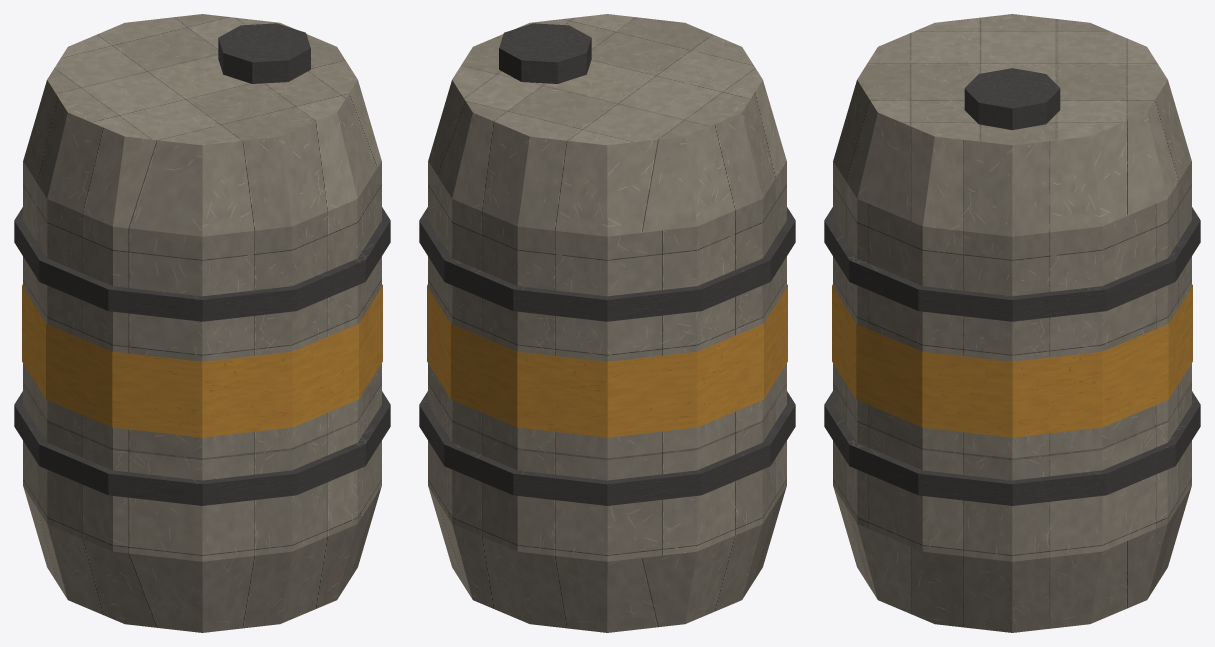
Rendered from prop_barrel_fuel.obj.
3 views of the same model, side by side, from view 1: azimuth 30°, elevation 25°; view 2: azimuth 150°, elevation 25°; view 3: azimuth 270°, elevation 25° (orthographic).
Parts seen in each view (by area): view 1: prop_barrel_fuel; view 2: prop_barrel_fuel; view 3: prop_barrel_fuel.
Boxes of the visible parts, x1,y1,x2,y2 form: prop_barrel_fuel: [14, 14, 390, 632]; prop_barrel_fuel: [419, 14, 795, 632]; prop_barrel_fuel: [824, 14, 1200, 632].
Bounding box in the file's own units: 0.63 × 0.94 × 0.63.
1 material, 1 textured.
